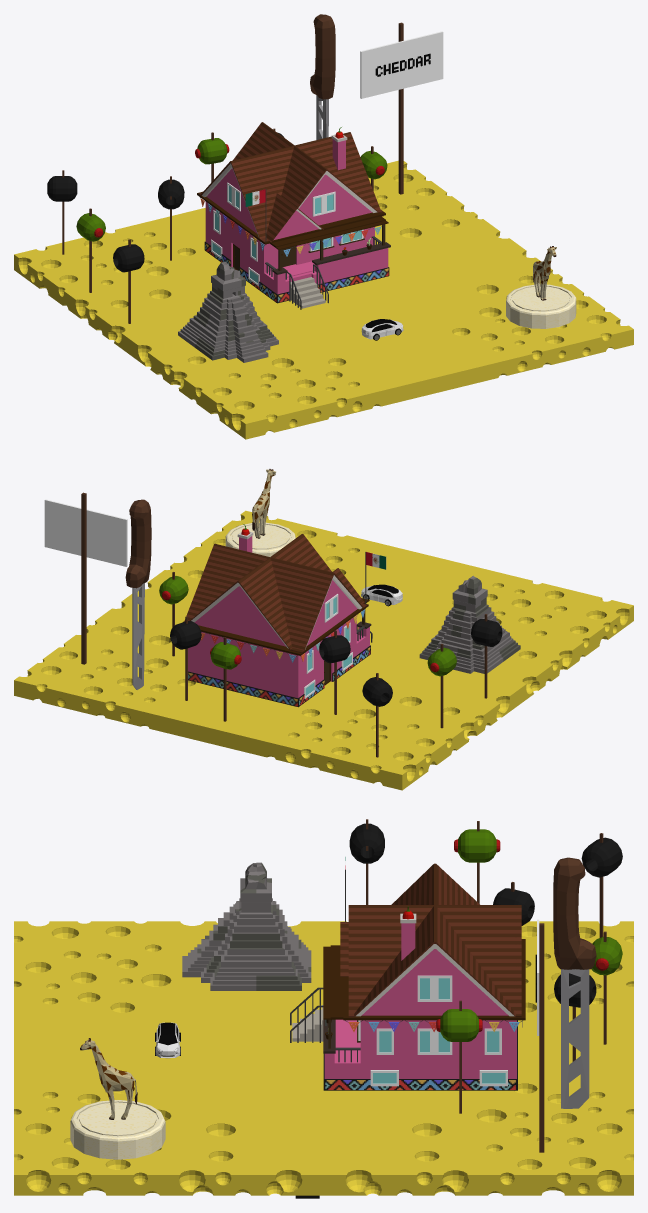
3 views of the same model, one above another, from view 1: azimuth 30°, elevation 25°; view 2: azimuth 150°, elevation 25°; view 3: azimuth 270°, elevation 25° (orthographic). The views are drawn at different scales.
Visible parts, largest first — view 1: Cube.022, Cube.1005, OBJRANDOM_GRAN_JAGUAR, Cube.023, Cylinder.016, Cube.024, Sphere.017, Sphere.016, Sphere.018, Sphere.022, Sphere.020, ANIMAL_JIRAFA (+2 smaller); view 2: Cube.022, Cube.1005, Cube.023, OBJRANDOM_GRAN_JAGUAR, Cube.024, Cylinder.016, Sphere.017, Sphere.022, Sphere.020, Sphere.021, Sphere.018, Sphere.016 (+3 smaller); view 3: Cube.022, Cube.1005, OBJRANDOM_GRAN_JAGUAR, Cube.024, Cylinder.016, Cube.023, Sphere.016, Sphere.019, ANIMAL_JIRAFA, Sphere.018, Sphere.017, Sphere.022 (+3 smaller).
Part boxes in pixels (x1=…): Cube.022: x1=14, y1=160, x2=633, y2=439; Cube.1005: x1=197, y1=122, x2=390, y2=309; OBJRANDOM_GRAN_JAGUAR: x1=178, y1=261, x2=278, y2=362; Cube.023: x1=360, y1=22, x2=443, y2=194; Cylinder.016: x1=506, y1=284, x2=576, y2=328; Cube.024: x1=310, y1=14, x2=335, y2=139; Sphere.017: x1=113, y1=239, x2=144, y2=323; Sphere.016: x1=47, y1=170, x2=77, y2=254; Sphere.018: x1=76, y1=208, x2=105, y2=292; Sphere.022: x1=195, y1=132, x2=229, y2=181; Sphere.020: x1=158, y1=176, x2=184, y2=260; ANIMAL_JIRAFA: x1=533, y1=246, x2=556, y2=300; Cube.022: x1=14, y1=510, x2=633, y2=790; Cube.1005: x1=183, y1=524, x2=386, y2=707; Cube.023: x1=44, y1=492, x2=127, y2=664; OBJRANDOM_GRAN_JAGUAR: x1=419, y1=575, x2=520, y2=673; Cube.024: x1=125, y1=499, x2=151, y2=689; Cylinder.016: x1=225, y1=522, x2=295, y2=556; Sphere.017: x1=471, y1=614, x2=502, y2=698; Sphere.022: x1=210, y1=637, x2=241, y2=721; Sphere.020: x1=319, y1=630, x2=350, y2=714; Sphere.021: x1=170, y1=616, x2=201, y2=700; Sphere.018: x1=427, y1=644, x2=456, y2=728; Sphere.016: x1=362, y1=673, x2=392, y2=757; Cube.022: x1=14, y1=921, x2=633, y2=1195; Cube.1005: x1=290, y1=857, x2=525, y2=1090; OBJRANDOM_GRAN_JAGUAR: x1=182, y1=862, x2=311, y2=990; Cube.024: x1=553, y1=857, x2=596, y2=1108; Cylinder.016: x1=70, y1=1100, x2=165, y2=1159; Cube.023: x1=535, y1=919, x2=544, y2=1152; Sphere.016: x1=581, y1=833, x2=622, y2=937; Sphere.019: x1=436, y1=1000, x2=482, y2=1113; ANIMAL_JIRAFA: x1=80, y1=1038, x2=137, y2=1119; Sphere.018: x1=454, y1=821, x2=500, y2=903; Sphere.017: x1=349, y1=819, x2=384, y2=904; Sphere.022: x1=591, y1=931, x2=622, y2=1044.
Size of the model in its own units: 3917 by 2015 by 4000.
Materials: 70 (5 with a texture image).
